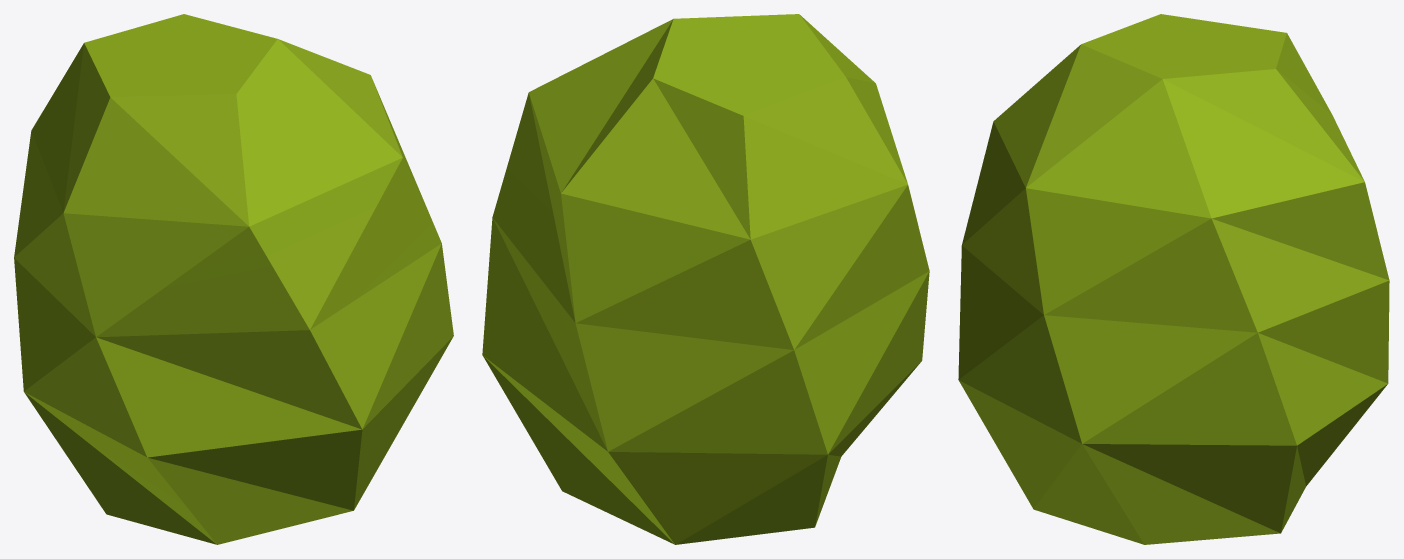
The model's file is Vegetation_Modular_Tree_Foliage_Clump_Large_06.fbx.
3 renders of one model, left to right at view 1: azimuth 30°, elevation 25°; view 2: azimuth 150°, elevation 25°; view 3: azimuth 270°, elevation 25°, orthographic. The views are drawn at different scales.
Visible parts, largest first — view 1: Vegetation_Modular_Tree_Foliage_Clump_Large_06; view 2: Vegetation_Modular_Tree_Foliage_Clump_Large_06; view 3: Vegetation_Modular_Tree_Foliage_Clump_Large_06.
Part boxes in pixels (x1,y1,x2,y2): Vegetation_Modular_Tree_Foliage_Clump_Large_06: (14,14,453,544); Vegetation_Modular_Tree_Foliage_Clump_Large_06: (482,14,929,544); Vegetation_Modular_Tree_Foliage_Clump_Large_06: (958,14,1389,544).
Bounding box in the file's own units: 75.26 × 90.34 × 78.88.
